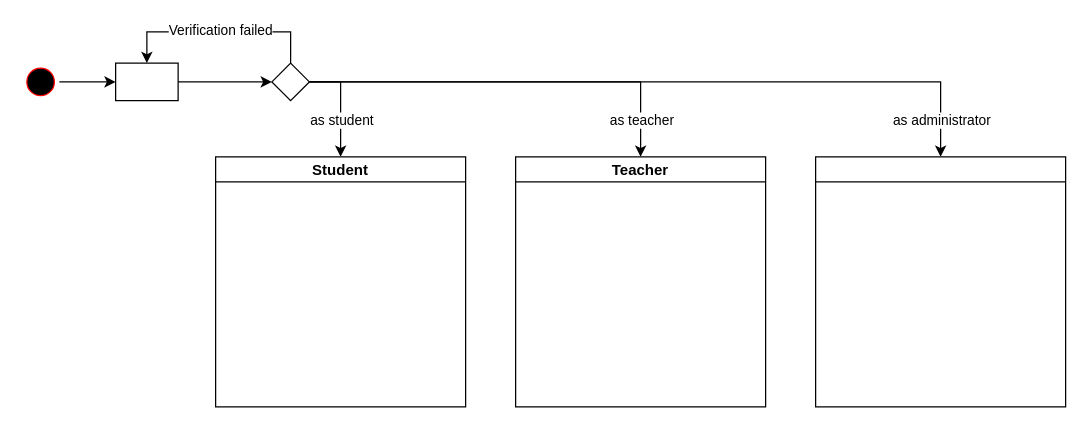
The diagram is 1088 pixels wide and 429 high, and some of its shapes have lost their labels. Each missing label, with the centre of its shape:
"Administrator" belongs at (x=940, y=281).
"Login" belongs at (x=146, y=81).
